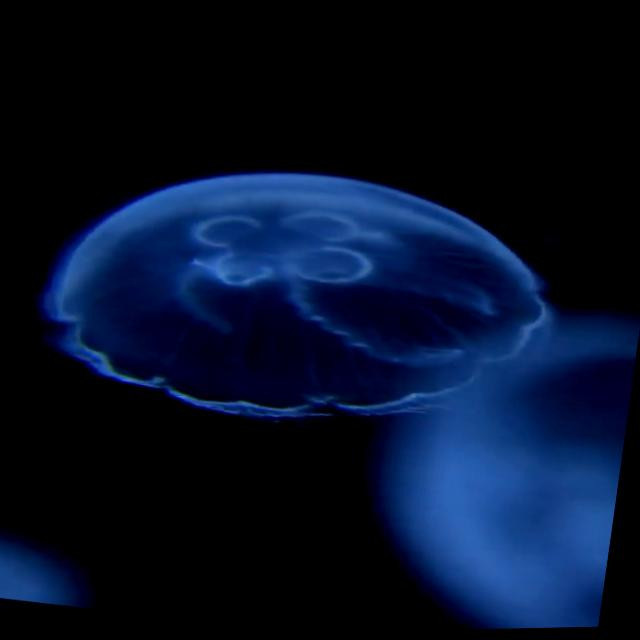Moon-jellyfish: (46, 171, 553, 425)
